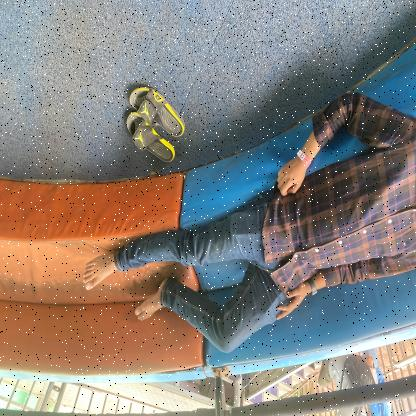hand: (265, 242, 416, 336), (273, 82, 336, 203)
leg: (124, 265, 267, 361), (67, 227, 214, 294)
